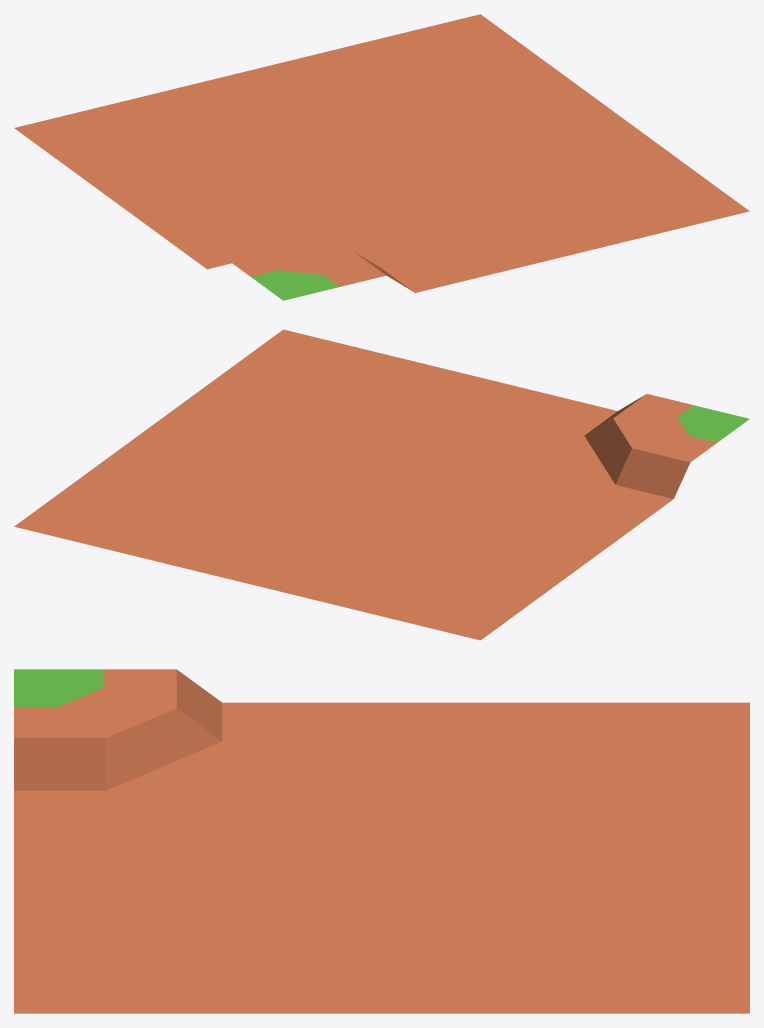
The model's file is ground_pathCornerSmall.glb.
The picture shows the model from 3 angles, top to bottom: view 1: azimuth 30°, elevation 25°; view 2: azimuth 150°, elevation 25°; view 3: azimuth 270°, elevation 25°; orthographic projection. The views are drawn at different scales.
Visible parts, largest first — view 1: ground_pathCornerSmall; view 2: ground_pathCornerSmall; view 3: ground_pathCornerSmall.
Part boxes in pixels (bbox=[...]): ground_pathCornerSmall: bbox=[14, 14, 749, 300]; ground_pathCornerSmall: bbox=[14, 329, 749, 640]; ground_pathCornerSmall: bbox=[14, 669, 749, 1013].
Bounding box in the file's own units: 1 × 0.05 × 1.
